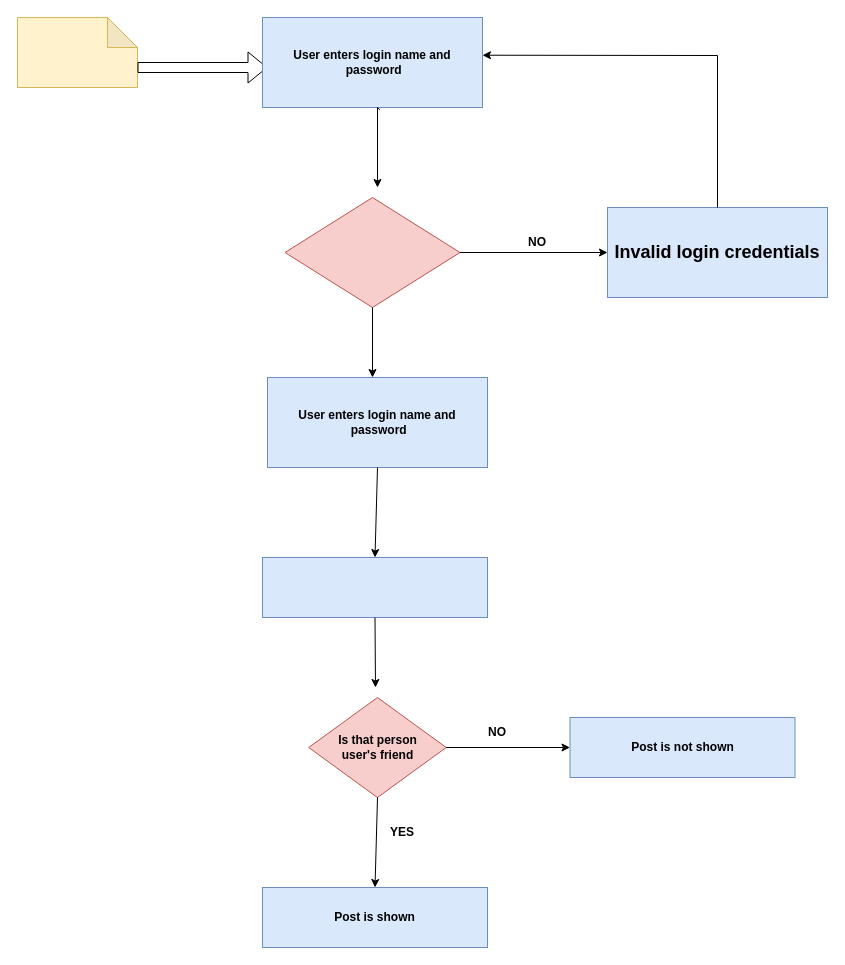
Some shapes in this 845 by 965 pixel diagram are drawn without their labels. Here are the shapes that lost their labels. From the top down, the centre of each, then its label:
At (77,52): "User is registered".
At (372,252): "Correct login and password".
At (375,587): "User feed is displayed".
